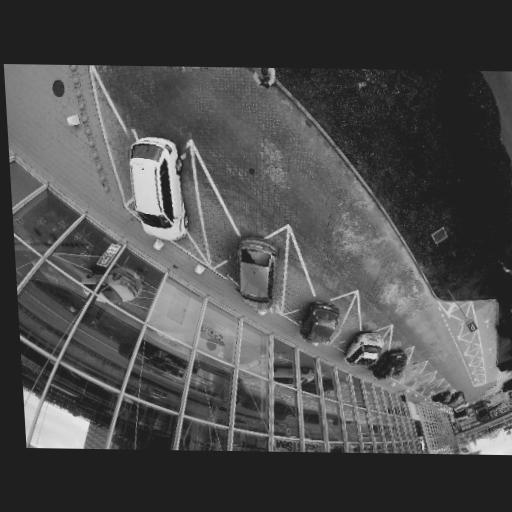busy: (117, 130, 190, 237), (222, 236, 287, 312), (296, 301, 345, 346), (343, 331, 388, 370), (373, 350, 412, 381), (430, 388, 453, 405), (444, 392, 464, 408)
free: (401, 366, 424, 382), (418, 375, 436, 389)
